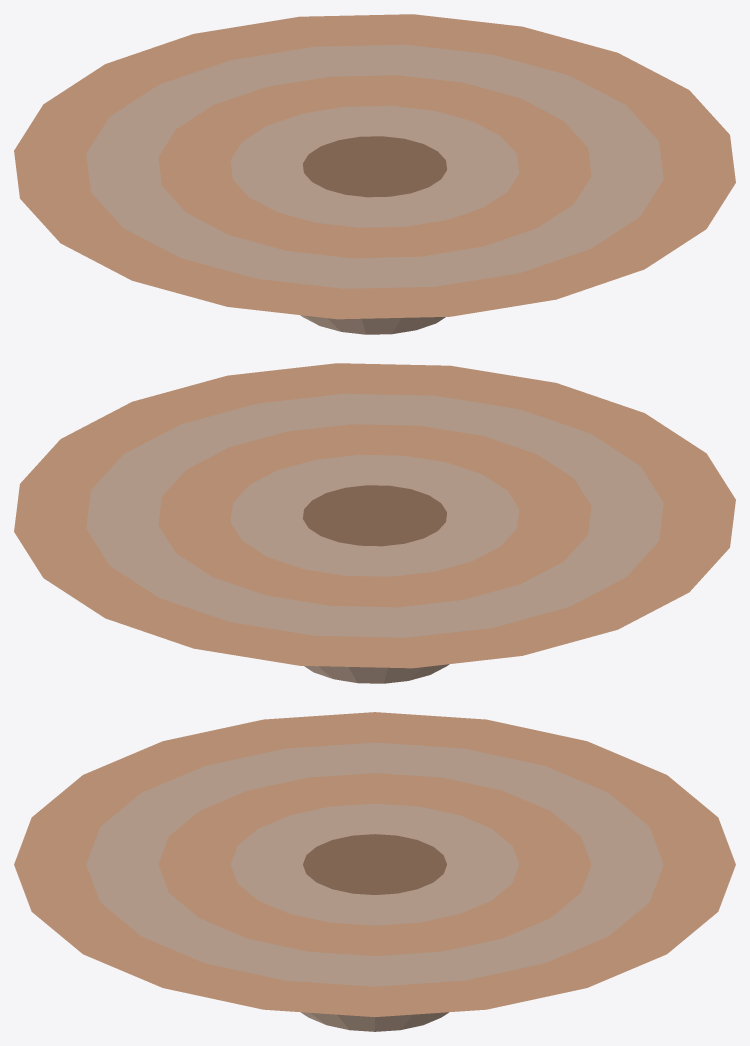
Rendered from treePlatform.fbx.
3 renders of one model, top to bottom at view 1: azimuth 30°, elevation 25°; view 2: azimuth 150°, elevation 25°; view 3: azimuth 270°, elevation 25°, orthographic.
Parts seen in each view (by area): view 1: treePlatform; view 2: treePlatform; view 3: treePlatform.
Boxes of the visible parts, x1=… form: treePlatform: x1=14, y1=14, x2=735, y2=334; treePlatform: x1=14, y1=363, x2=735, y2=683; treePlatform: x1=14, y1=712, x2=735, y2=1031.
Size of the model in its own units: 36.41 by 7.38 by 36.41.
Materials: 3 (3 with a texture image).
